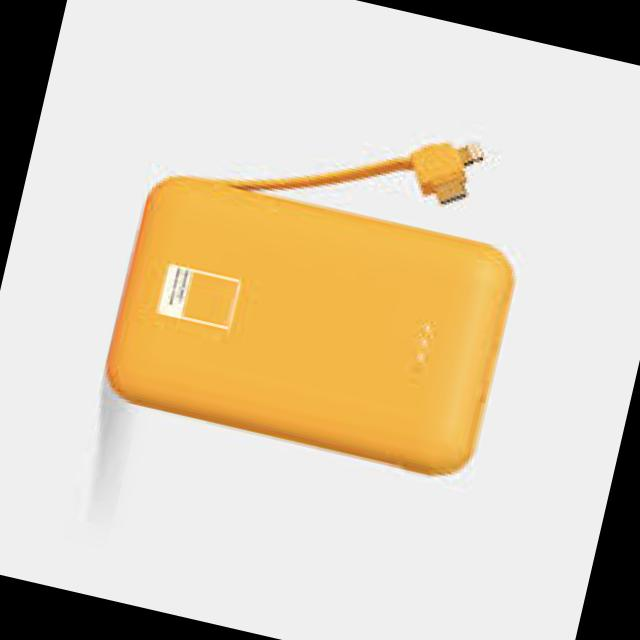portable-charger: (91, 166, 517, 484)
